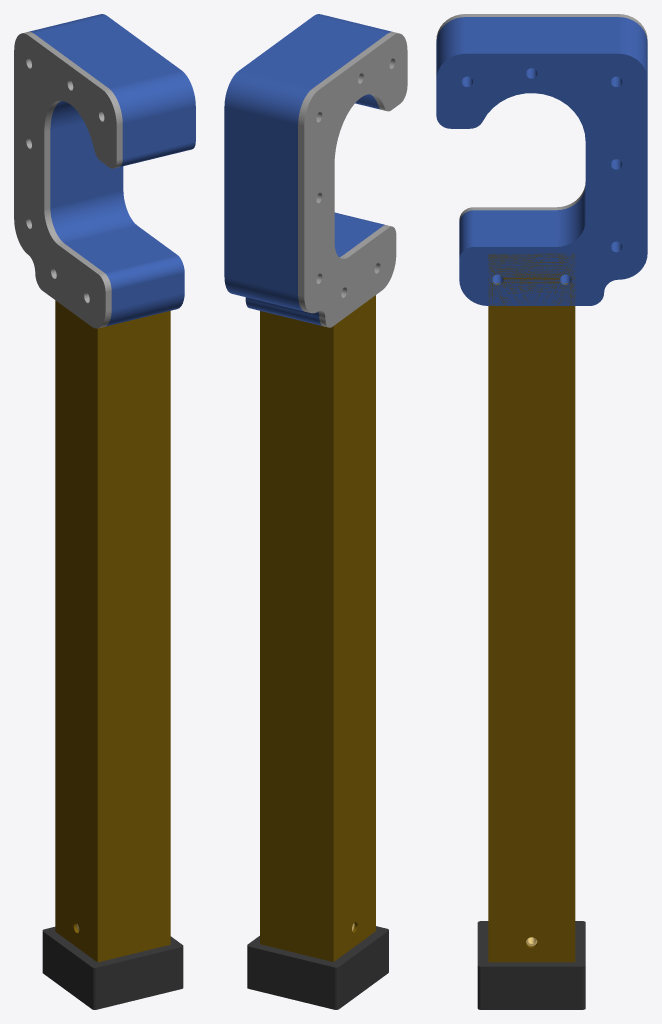
File: climb.glb
3 views of the same model, side by side, from view 1: azimuth 30°, elevation 25°; view 2: azimuth 150°, elevation 25°; view 3: azimuth 270°, elevation 25° (orthographic). The views are drawn at different scales.
Parts seen in each view (by area): view 1: Inner, HookBody, Hook, 2X2 Stage Internal End Block; view 2: Inner, HookBody, Hook, 2X2 Stage Internal End Block; view 3: Inner, HookBody, 2X2 Stage Internal End Block, Hook.
Part boxes in pixels (x1,y1,x2,y2): Inner: (55,300,170,962); HookBody: (28,14,195,326); Hook: (14,32,122,328); 2X2 Stage Internal End Block: (42,924,183,1009); Inner: (260,295,375,961); HookBody: (224,14,392,325); Hook: (298,32,407,327); 2X2 Stage Internal End Block: (247,923,388,1009); Inner: (488,253,575,962); HookBody: (436,17,647,305); 2X2 Stage Internal End Block: (477,921,585,1009); Hook: (436,14,647,221).
Size of the model in its own units: 0.0474 by 0.4605 by 0.0926.
